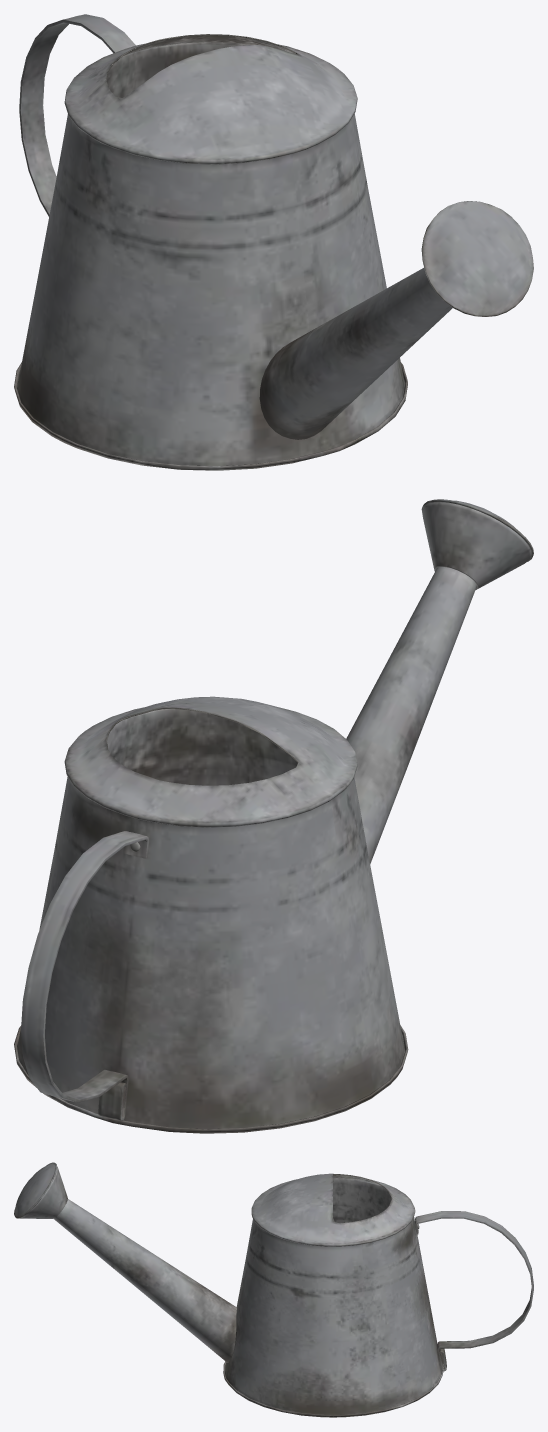
Rendered from watering_can_metal_01.glb.
The picture shows the model from 3 angles, top to bottom: view 1: azimuth 30°, elevation 25°; view 2: azimuth 150°, elevation 25°; view 3: azimuth 270°, elevation 25°; orthographic projection. The views are drawn at different scales.
Visible parts, largest first — view 1: watering_can_metal_01; view 2: watering_can_metal_01; view 3: watering_can_metal_01.
Part boxes in pixels (box(x1,y1,x2,y2)): watering_can_metal_01: box(14, 14, 533, 470); watering_can_metal_01: box(14, 499, 533, 1133); watering_can_metal_01: box(14, 1162, 533, 1417).
Bounding box in the file's own units: 0.1909 × 0.1967 × 0.4523.
Materials: 1 (1 with a texture image).
